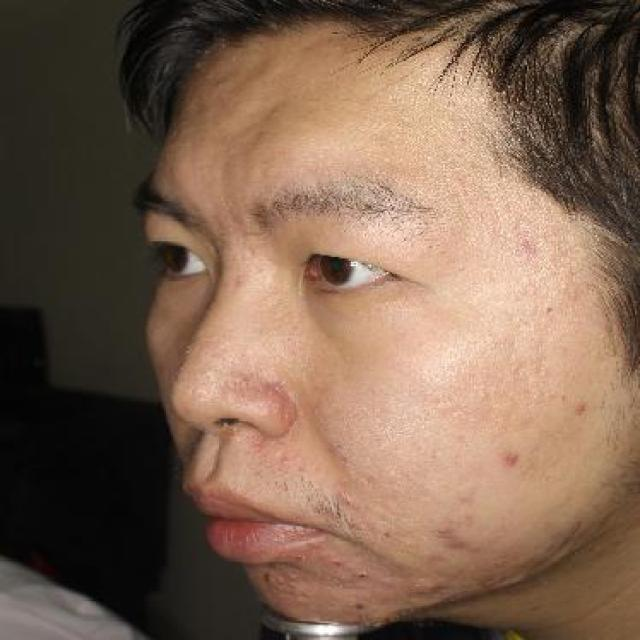acne: (508, 228, 548, 260), (440, 528, 474, 557), (560, 396, 598, 418), (424, 520, 458, 543), (498, 449, 527, 471), (351, 564, 375, 588), (328, 555, 346, 571), (352, 598, 368, 616)
